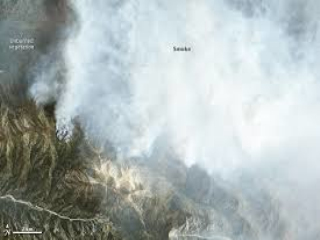smoke: (125, 17, 317, 212), (34, 4, 109, 144)
